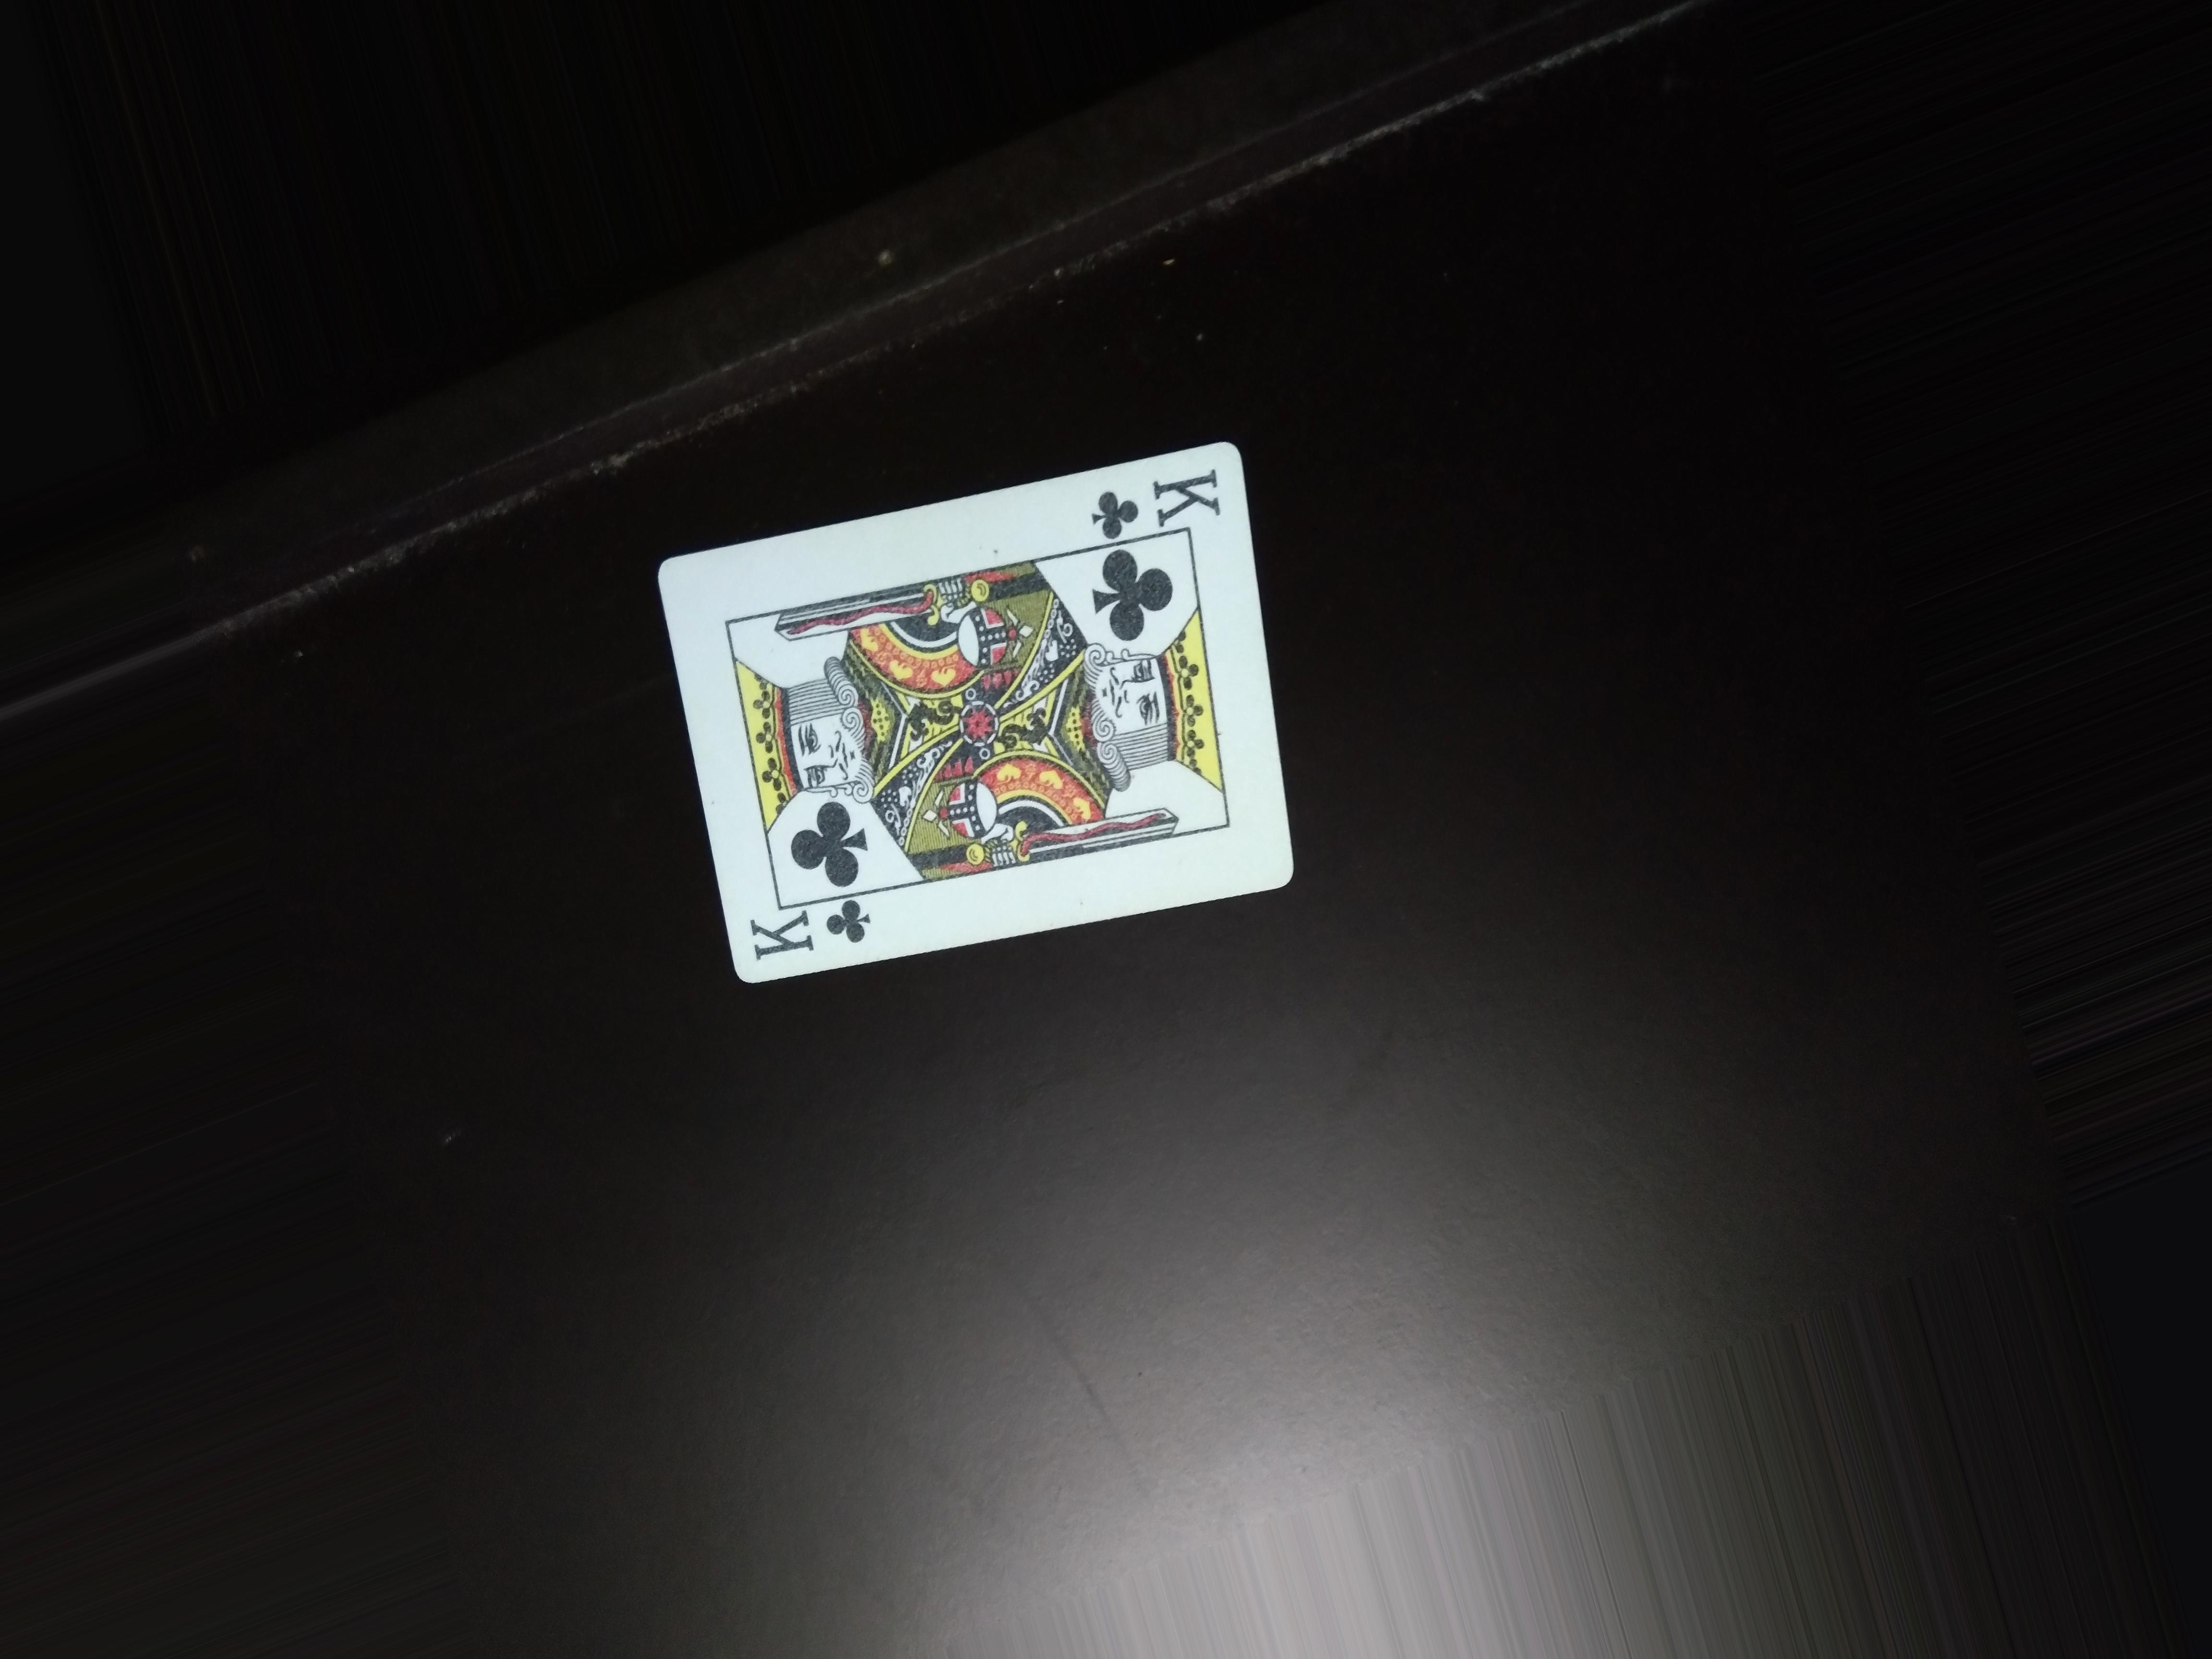KC: (744, 899, 892, 967)
